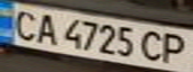2: (97, 21, 118, 56)
4: (57, 16, 84, 50)
5: (115, 24, 139, 60)
7: (78, 18, 100, 52)
A: (30, 11, 60, 46)
C: (9, 7, 42, 42), (136, 28, 169, 63)
P: (157, 29, 190, 65)
